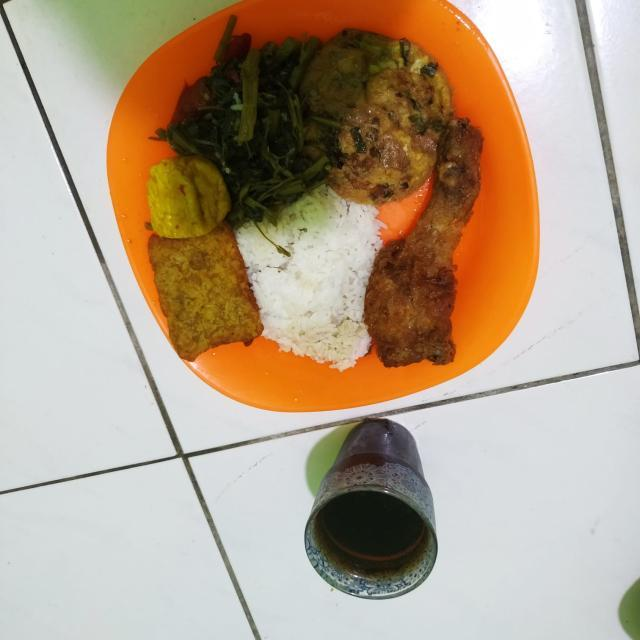ayam_goreng: (312, 125, 515, 406)
nasi_putih: (231, 192, 401, 390)
telur_ayam_dadar: (282, 41, 460, 240)
